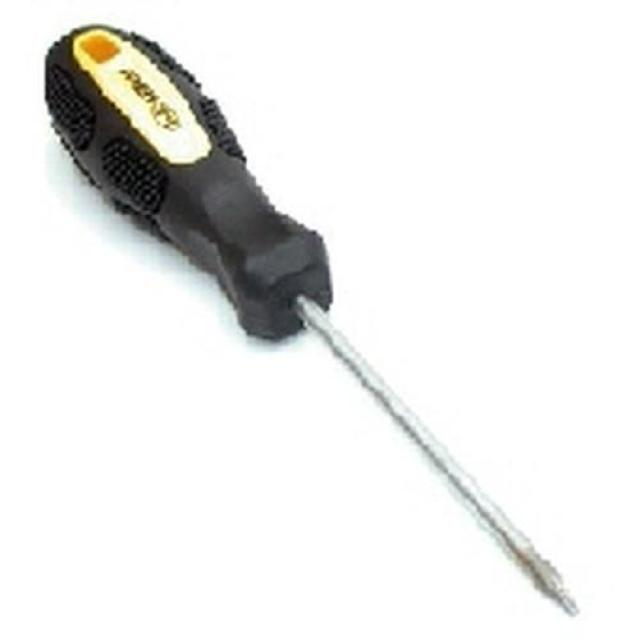screw driver: (22, 15, 627, 640)
